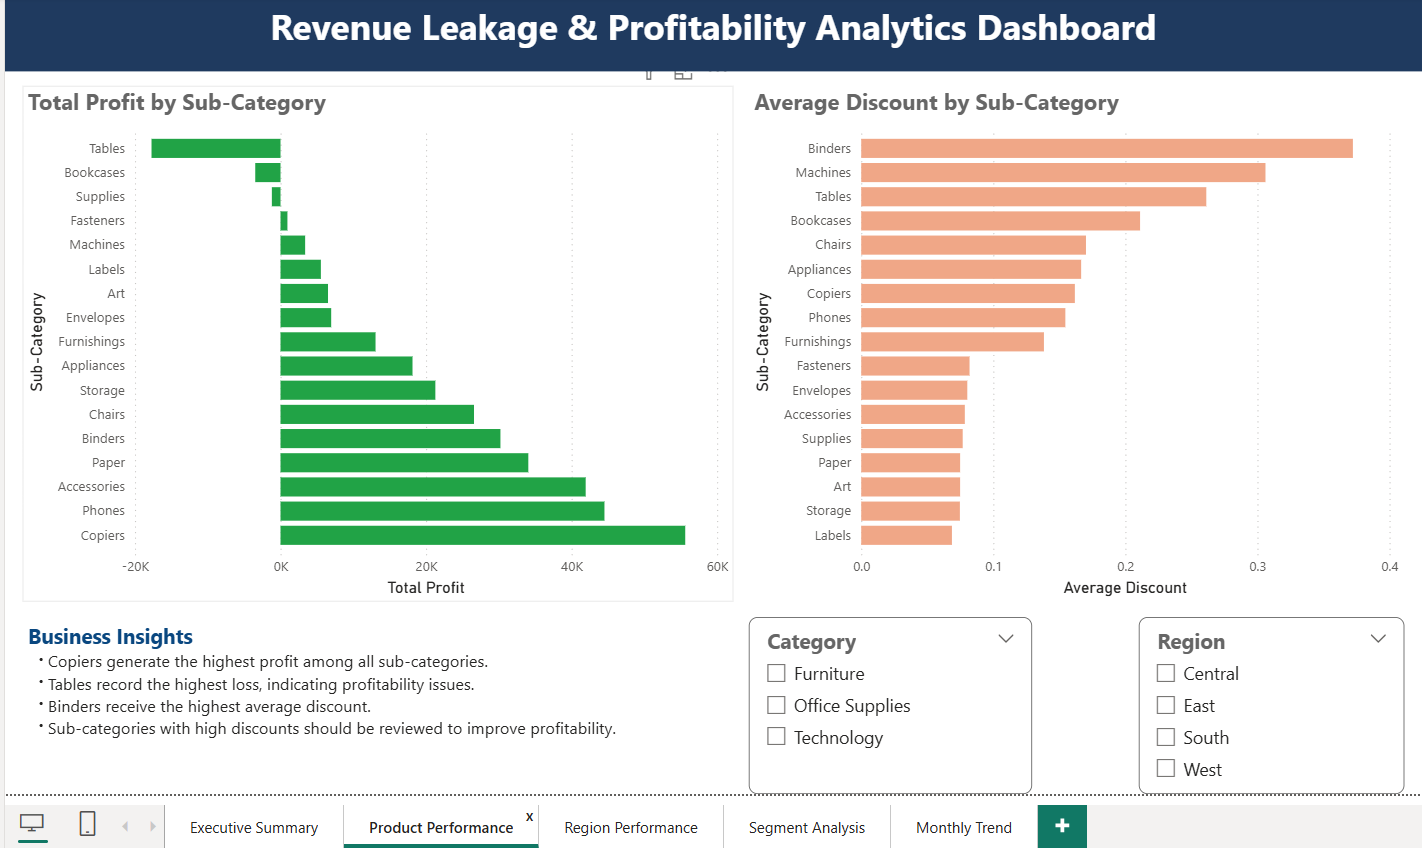

Layout of this report page (visuals, bound fields, positions):
{"tool":"powerbi","page":{"name":"Product Performance","canvas":[1280,720],"ordinal":1},"visuals":[{"type":"clusteredBarChart","fields":{"Category":["Sheet1.Sub-Category"],"Y":["Sheet1.Total Profit"]},"box":[16,80,642.7,466.7],"z":0},{"type":"clusteredBarChart","fields":{"Category":["Sheet1.Sub-Category"],"Y":["Sheet1.Average Discount"]},"box":[672,80,592,466.7],"z":1000},{"type":"slicer","fields":{"Values":["Sheet1.Category"]},"box":[672,560,256,160],"z":2000},{"type":"slicer","fields":{"Values":["Sheet1.Region"]},"box":[1024,560,240,160],"z":3000},{"type":"textbox","box":[0,0,1280,67.6],"z":4000},{"type":"textbox","box":[16,560,640,144],"z":5000}]}

Visuals, with their boxes on the page's 1280x720 design canvas (x1, y1, x2, y2). These are canvas units, not pixel positions in the 1422x848 screenshot, which may show the page scaled, cropped or inside an application window:
clusteredBarChart - Sheet1.Sub-Category x Sheet1.Total Profit: bbox(16, 80, 659, 547)
clusteredBarChart - Sheet1.Sub-Category x Sheet1.Average Discount: bbox(672, 80, 1264, 547)
slicer - Sheet1.Category: bbox(672, 560, 928, 720)
slicer - Sheet1.Region: bbox(1024, 560, 1264, 720)
textbox: bbox(0, 0, 1280, 68)
textbox: bbox(16, 560, 656, 704)
